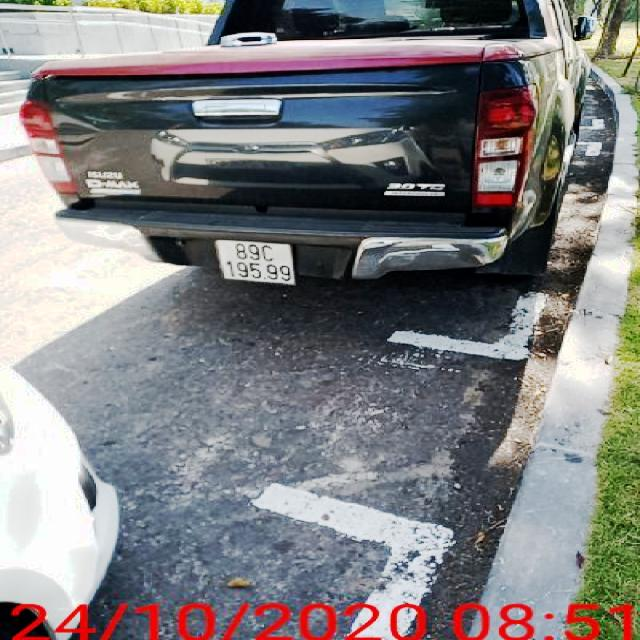license_plate: (218, 242, 295, 285)
